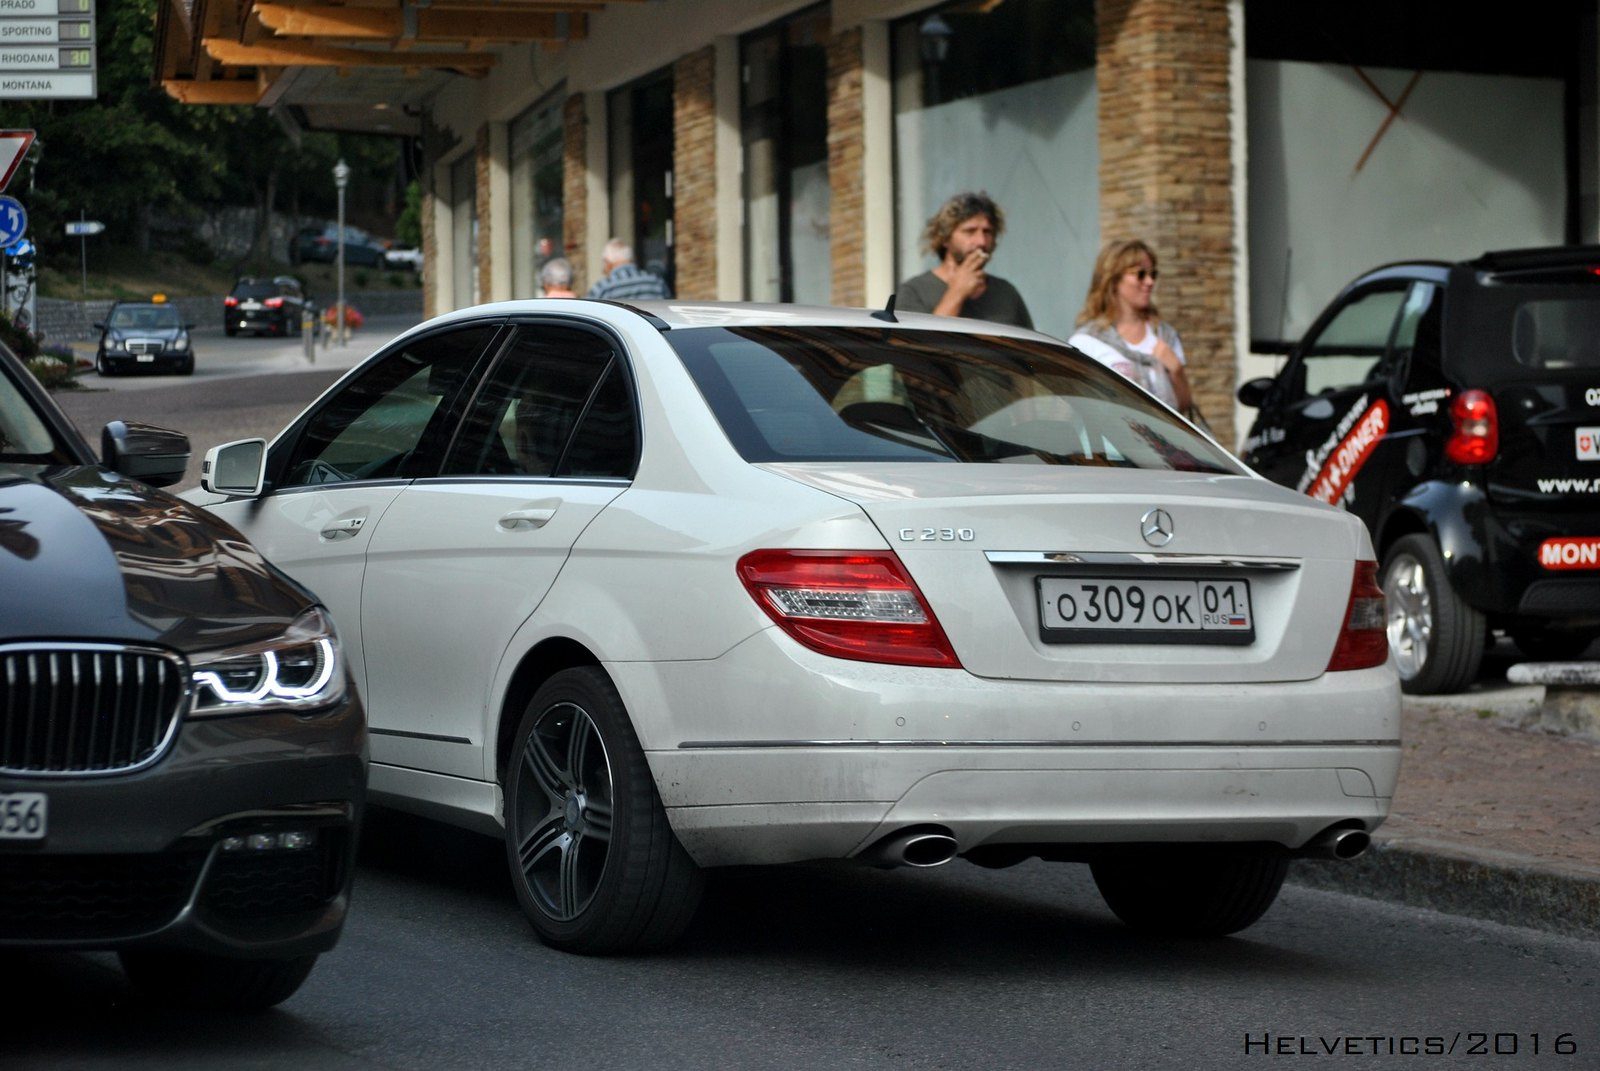car_rear: (731, 489, 1404, 878)
plate: (1042, 575, 1252, 633)
